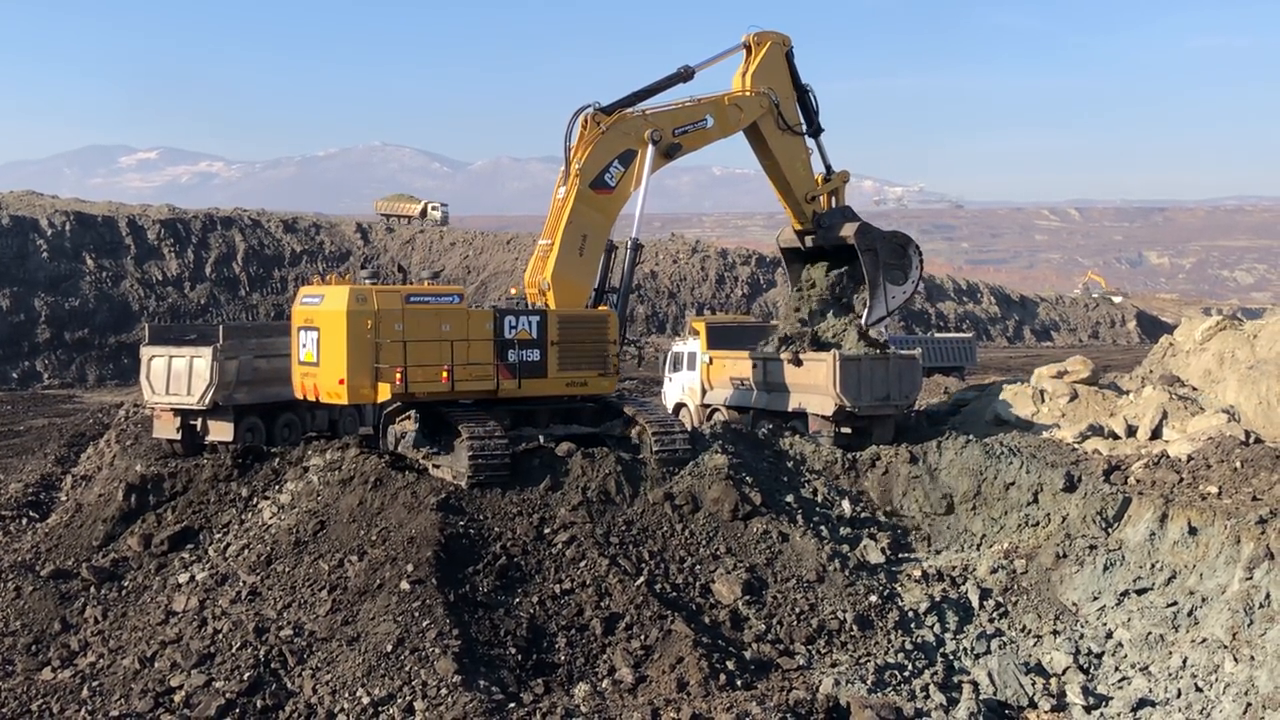full: (775, 210, 930, 335)
